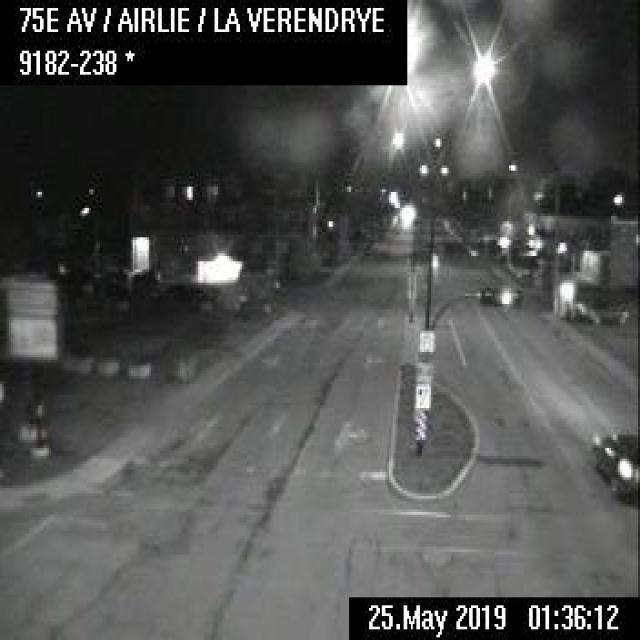vehicle: (591, 426, 638, 506), (585, 300, 626, 326)
